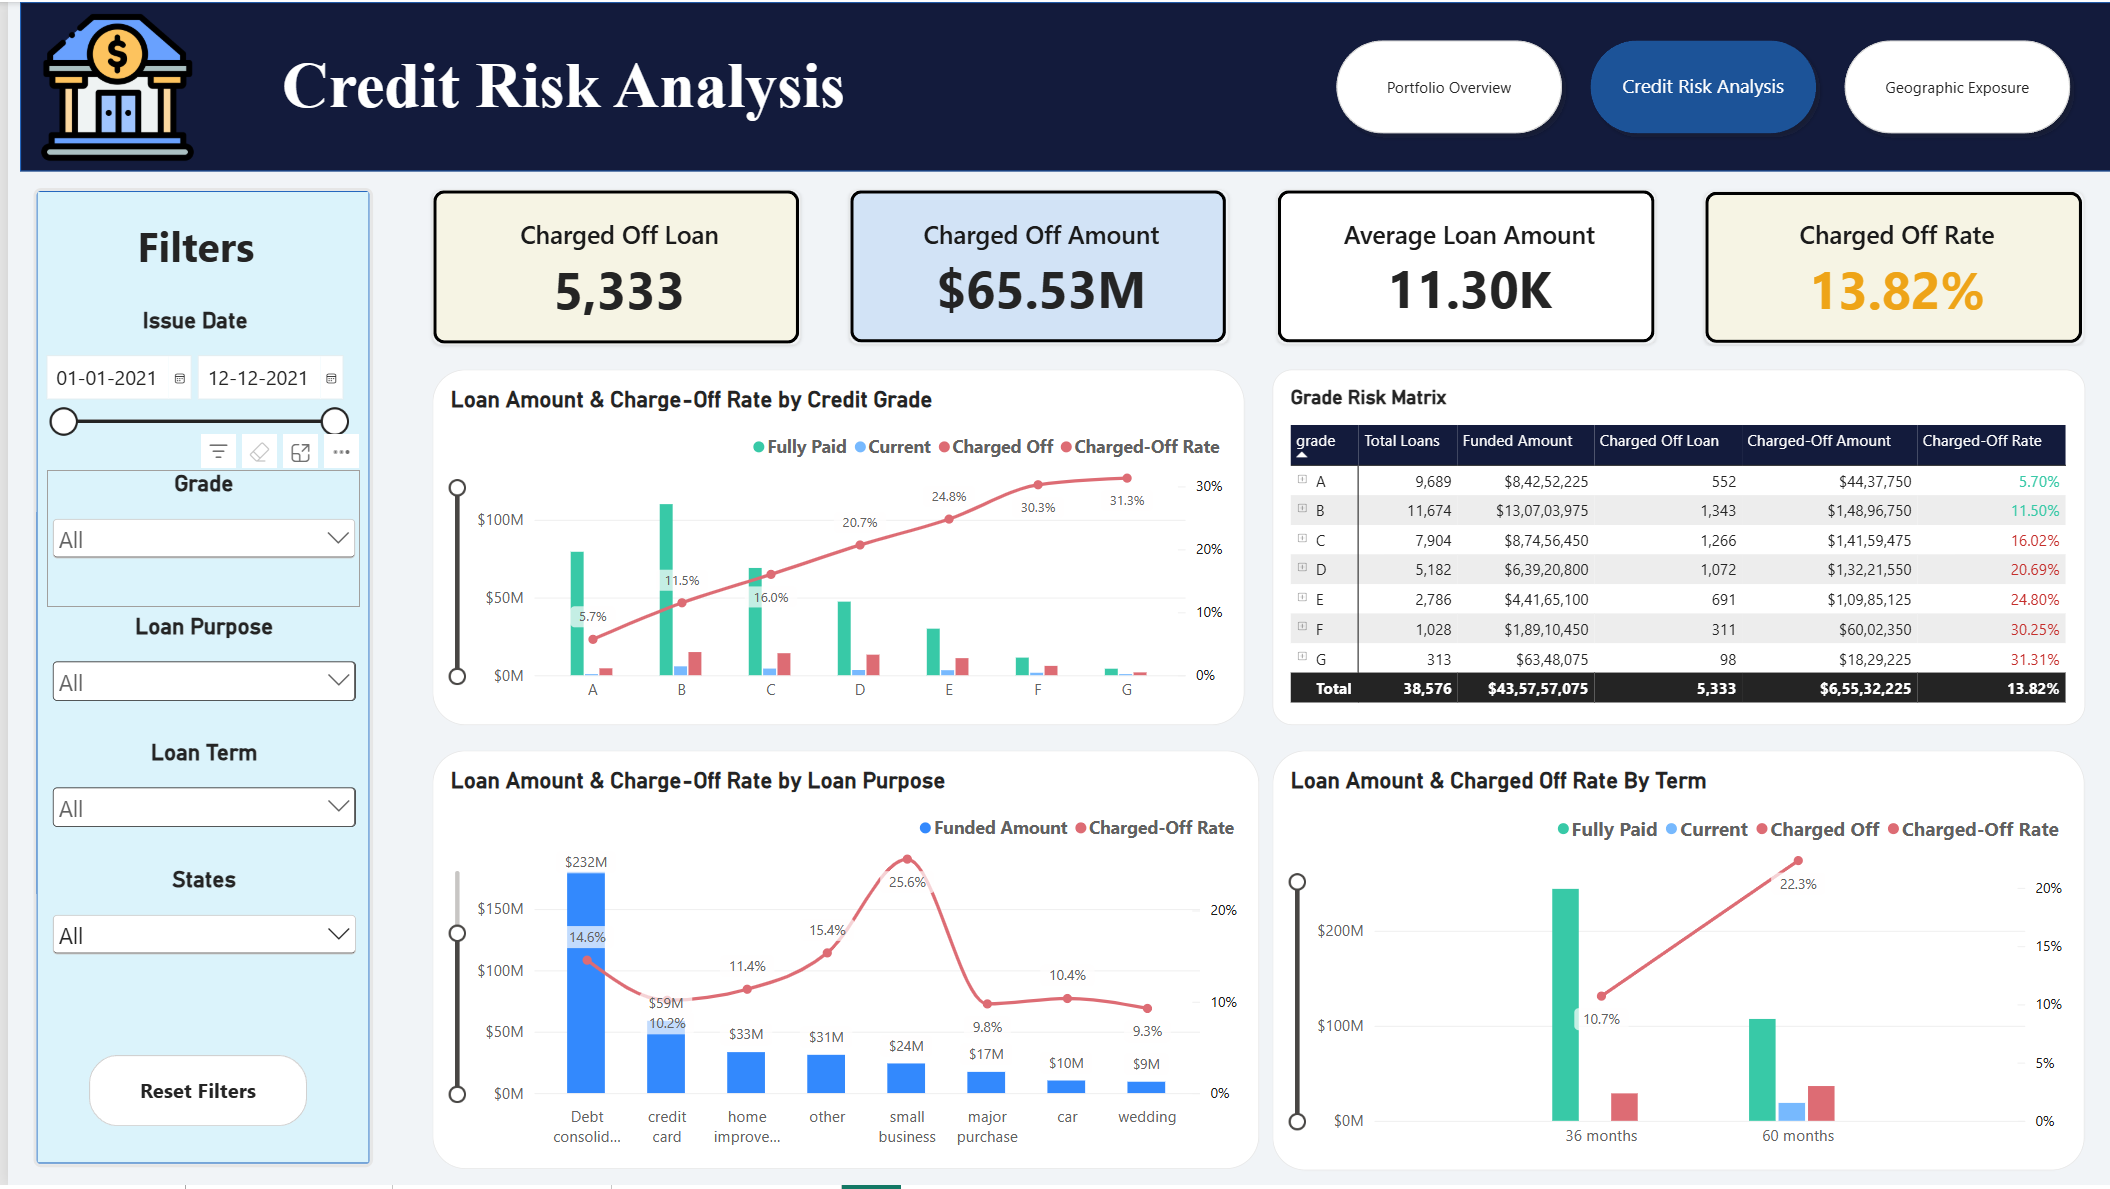

The page's visual inventory and layout, read from the dashboard file:
{"tool":"powerbi","page":{"name":"Credit Risk Analysis","canvas":[1920,1080],"ordinal":1},"visuals":[{"type":"shape","box":[10.8,0,1909.2,154.8],"z":0},{"type":"shape","box":[23.7,170.2,310.2,893.9],"z":1000},{"type":"image","box":[10.8,7.7,178.1,139.4],"z":2000},{"type":"cardVisual","fields":{"Data":["Calculated_Measures.5_chargedoffloans"]},"box":[387.7,170.8,336,142.2],"z":3000},{"type":"lineClusteredColumnComboChart","title":"Loan Amount & Charge-Off Rate by Credit Grade","fields":{"Category":["analytics Dim_CreditGrade.grade"],"Series":["analytics Fact_Loan.loan_status"],"Y":["Calculated_Measures.2_Funded Amount"],"Y2":["Calculated_Measures.Charged off Share"]},"box":[387.9,335.3,741.3,324.4],"z":4000},{"type":"cardVisual","fields":{"Data":["Calculated_Measures.Charged Off amount"]},"box":[768.2,171.1,345.7,141.5],"z":5000},{"type":"cardVisual","fields":{"Data":["Calculated_Measures.8_Charged off Share"]},"box":[1548.8,171.9,346.8,140],"z":6000},{"type":"textbox","box":[208.2,42.5,576.5,69.8],"z":7000},{"type":"slicer","title":"Issue Date","fields":{"Values":["analytics Dim_Date.Date"]},"box":[28,278.3,287,148.8],"z":8000},{"type":"slicer","title":"Loan Purpose","fields":{"Values":["analytics Dim_LoanPurpose.purpose"]},"box":[35.6,548.1,287.1,109],"z":9000},{"type":"actionButton","title":"Reset Filter","box":[73.3,961.8,199.1,65],"z":10000},{"type":"slicer","title":"Grade","fields":{"Values":["analytics Dim_CreditGrade.grade"]},"box":[35.4,427.4,286.5,123.9],"z":11000},{"type":"textbox","box":[56.6,197,230.5,81.7],"z":12000},{"type":"cardVisual","fields":{"Data":["Calculated_Measures.Average Loan Amount"]},"box":[1158.2,171.2,346.2,141.4],"z":13000},{"type":"lineClusteredColumnComboChart","title":"Loan Amount & Charge-Off Rate by Loan Purpose","fields":{"Category":["analytics Dim_LoanPurpose.purpose"],"Y":["Calculated_Measures.2_Funded Amount"],"Y2":["Calculated_Measures.Charged off Share"]},"box":[387.7,682.8,754.5,382.1],"z":14000},{"type":"lineClusteredColumnComboChart","title":"Loan Amount & Charged Off Rate By Term","fields":{"Category":["analytics Fact_Loan.term"],"Series":["analytics Fact_Loan.loan_status"],"Y":["Calculated_Measures.2_Funded Amount"],"Y2":["Calculated_Measures.Charged off Share"]},"box":[1154.6,682.8,741,383.4],"z":15000},{"type":"pivotTable","title":"Grade Risk Matrix","fields":{"Rows":["analytics Dim_CreditGrade.grade","analytics Dim_CreditGrade.sub_grade"],"Values":["Calculated_Measures.Total Loans","Calculated_Measures.Funded Amount","Calculated_Measures.chargedoffloans","Calculated_Measures.Charged Off Amount","Calculated_Measures.Charged Off Rate"]},"box":[1154.2,335.2,742,324.4],"z":16000},{"type":"slicer","title":"Loan Term","fields":{"Values":["analytics Fact_Loan.term"]},"box":[35.1,673,287.1,109],"z":17000},{"type":"slicer","title":"States","fields":{"Values":["analytics Dim_State.state_name"]},"box":[35.1,788.4,287,108.5],"z":18000},{"type":"pageNavigator","box":[1203.1,26.3,690.6,103.3],"z":19000}]}

Visuals, with their boxes in screenshot pixels (x1, y1, x2, y2), scaled from the page's 1920x1080 canvas onto the 2110x1189 screenshot:
shape: 12 0 2109 170
shape: 26 187 367 1171
image: 12 8 208 162
cardVisual - Calculated_Measures.5_chargedoffloans: 426 188 795 345
"Loan Amount & Charge-Off Rate by Credit Grade" lineClusteredColumnComboChart: 426 369 1241 726
cardVisual - Calculated_Measures.Charged Off amount: 844 188 1224 344
cardVisual - Calculated_Measures.8_Charged off Share: 1702 189 2083 343
textbox: 229 47 862 124
"Issue Date" slicer: 31 306 346 470
"Loan Purpose" slicer: 39 603 355 723
"Reset Filter" actionButton: 81 1059 299 1130
"Grade" slicer: 39 471 354 607
textbox: 62 217 316 307
cardVisual - Calculated_Measures.Average Loan Amount: 1273 188 1653 344
"Loan Amount & Charge-Off Rate by Loan Purpose" lineClusteredColumnComboChart: 426 752 1255 1172
"Loan Amount & Charged Off Rate By Term" lineClusteredColumnComboChart: 1269 752 2083 1174
"Grade Risk Matrix" pivotTable: 1268 369 2084 726
"Loan Term" slicer: 39 741 354 861
"States" slicer: 39 868 354 987
pageNavigator: 1322 29 2081 143
